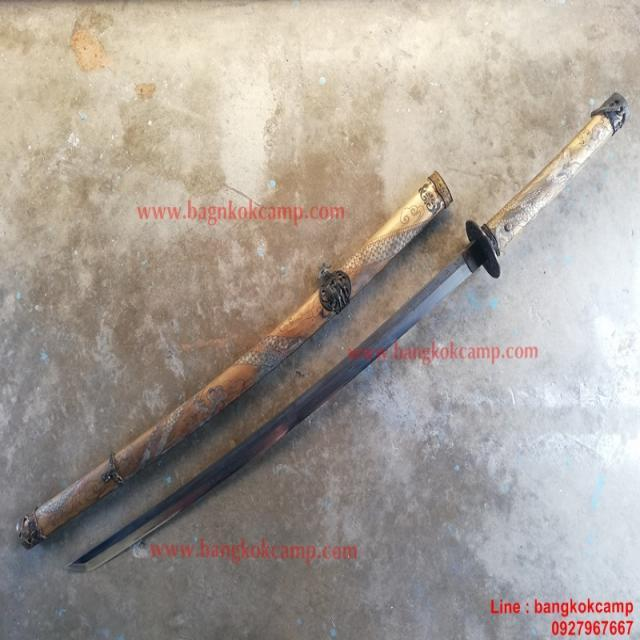long sword: (66, 83, 632, 581)
